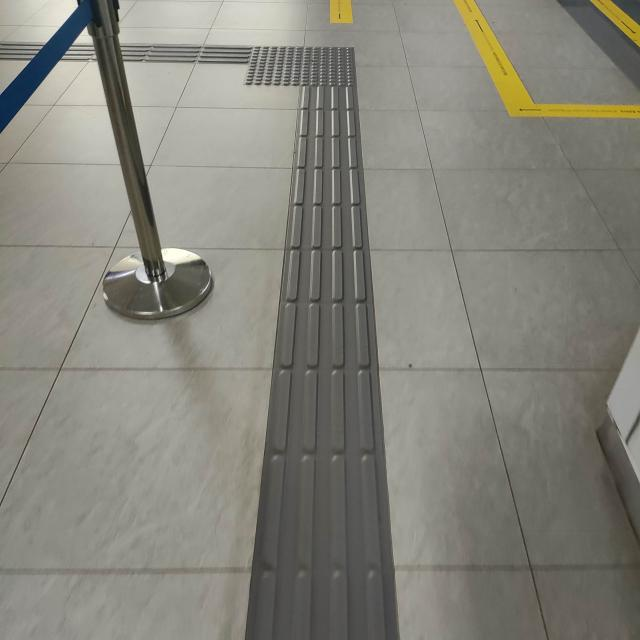kiri: (155, 13, 401, 111)
lurus: (244, 145, 388, 640)
